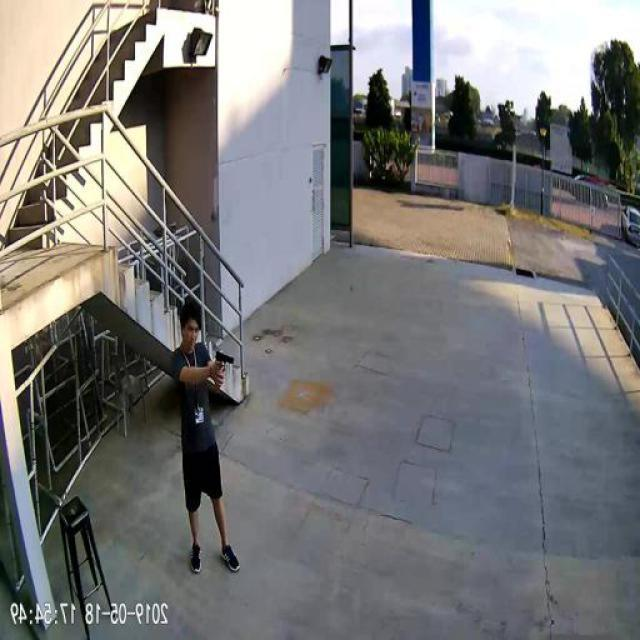weapon: (210, 350, 237, 377)
